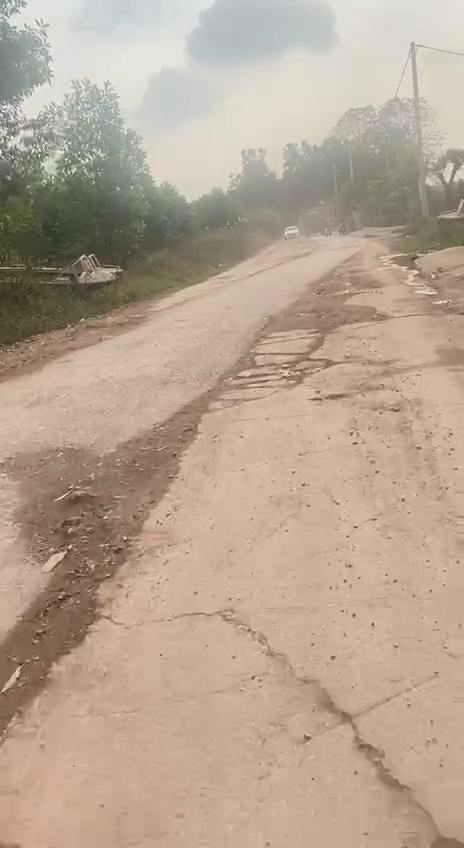pothole: (0, 434, 191, 677)
